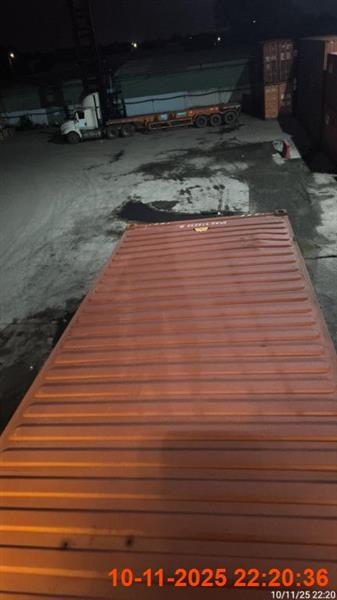broken: (1, 209, 336, 598), (59, 91, 241, 144)
